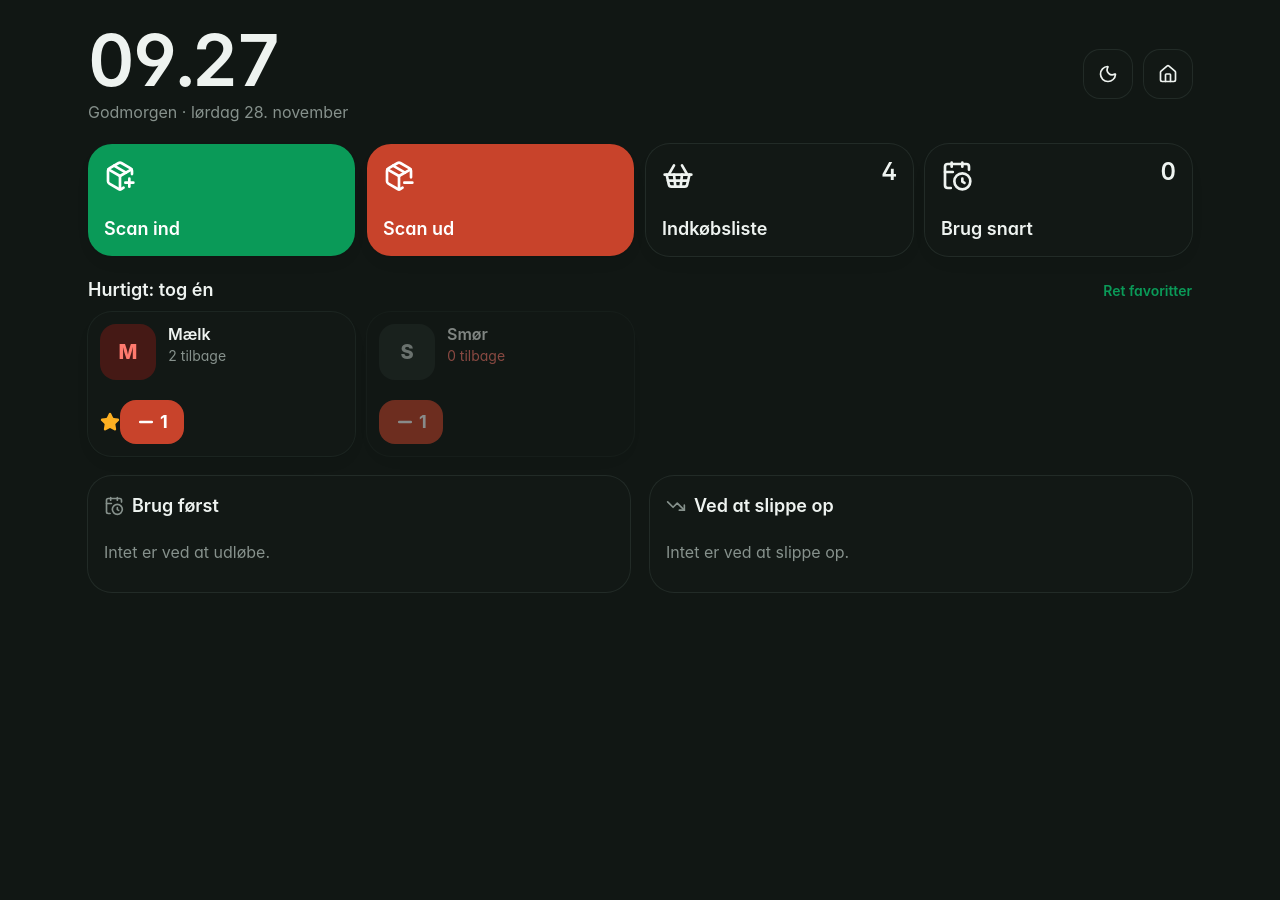
it: KitchenPage › one tap takes one, undo puts it back
expect the button "S Smør 0 tilbage 1" is disabled: met, box [367, 312, 634, 456]
What coordinates should you click on to do the following:
click the button "M Mælk 2 tilbage 1"
I would click on:
 (128, 352)
Its box is [88, 312, 355, 456].
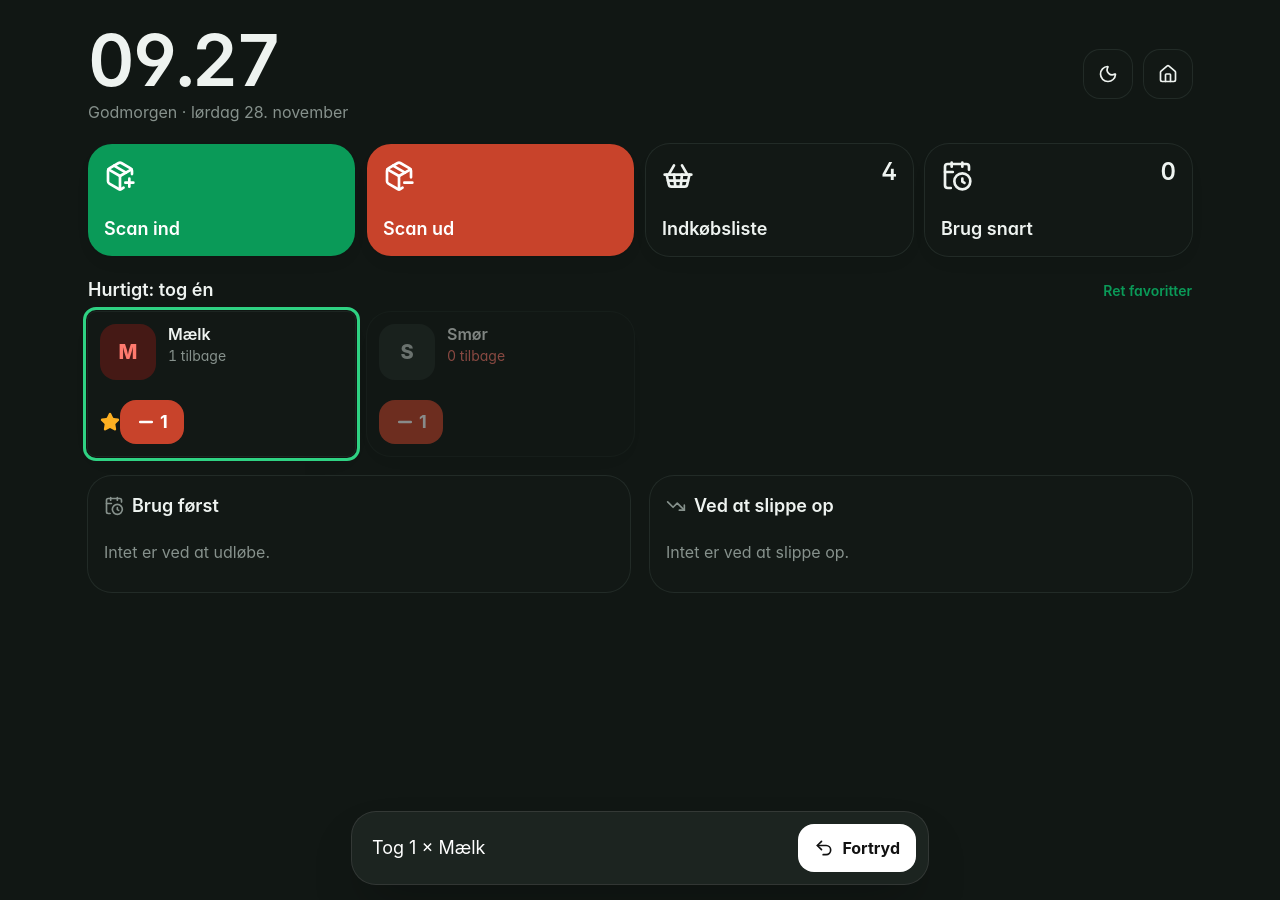
expect the text with test id "kitchen-qty" shows "1": met, box [168, 346, 226, 366]
What coordinates should you click on to do the following:
click the button with test id "kitchen-undo"
I would click on:
 (857, 848)
Its box is [798, 824, 916, 872].
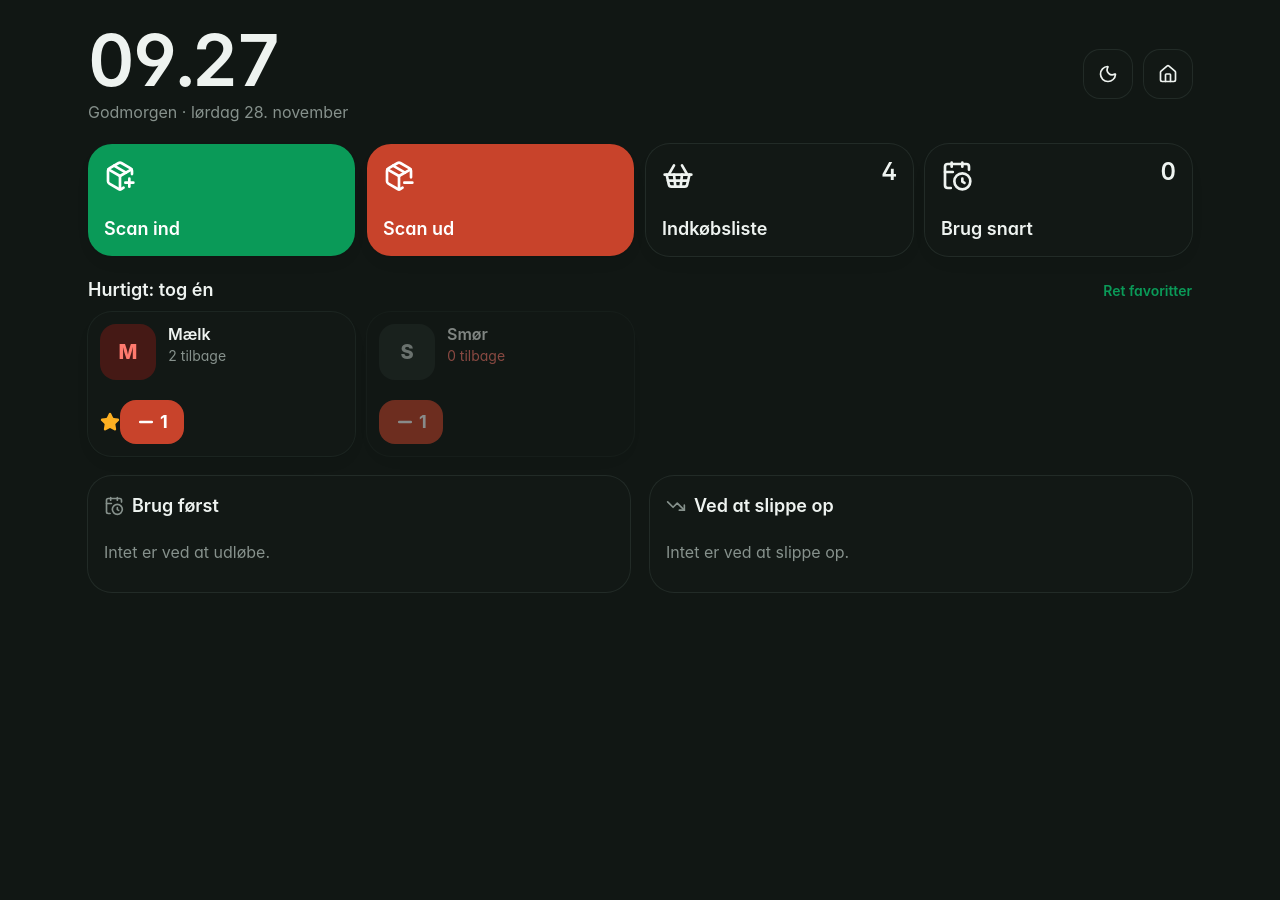
expect the text with test id "kitchen-qty" shows "2": met, box [168, 346, 226, 366]
